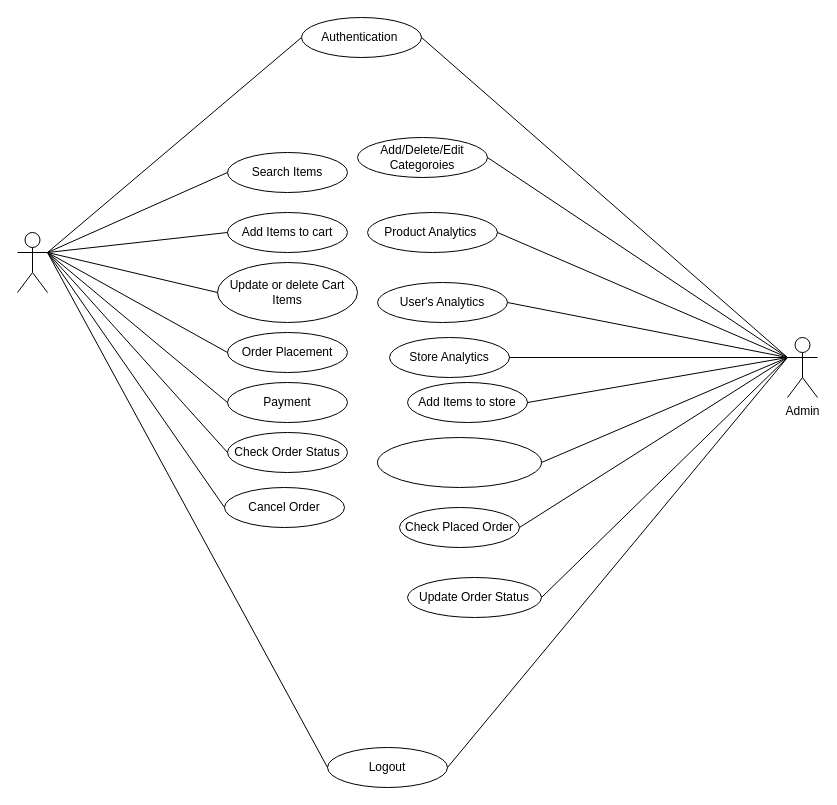
This 837x805 diagram has some shape labels left out. Here are the shapes that lost their labels. From the top down, the centre of each, then its label:
At (x=32, y=262): "Buyer".
At (x=459, y=462): "Update or delete items of store".
